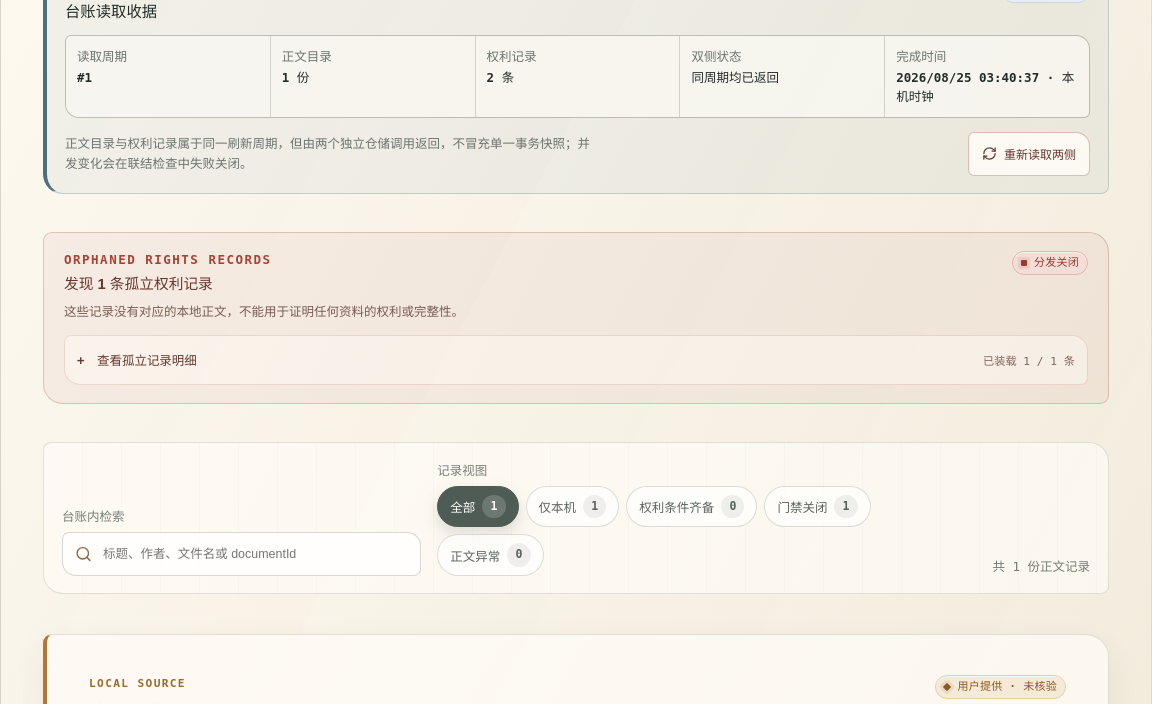
SourceRightsLedger › 默认折叠孤立记录明细，并保留异常计数与渐进装载证据
(page scrolled)
Expected: the heading "发现 1 条孤立权利记录" is shown, x1=64 y1=276 x2=213 y2=292
Step 1. Click the heading "查看孤立记录明细 已装载 1 / 1 条" → (147, 361), box x1=97 y1=354 x2=1075 y2=368
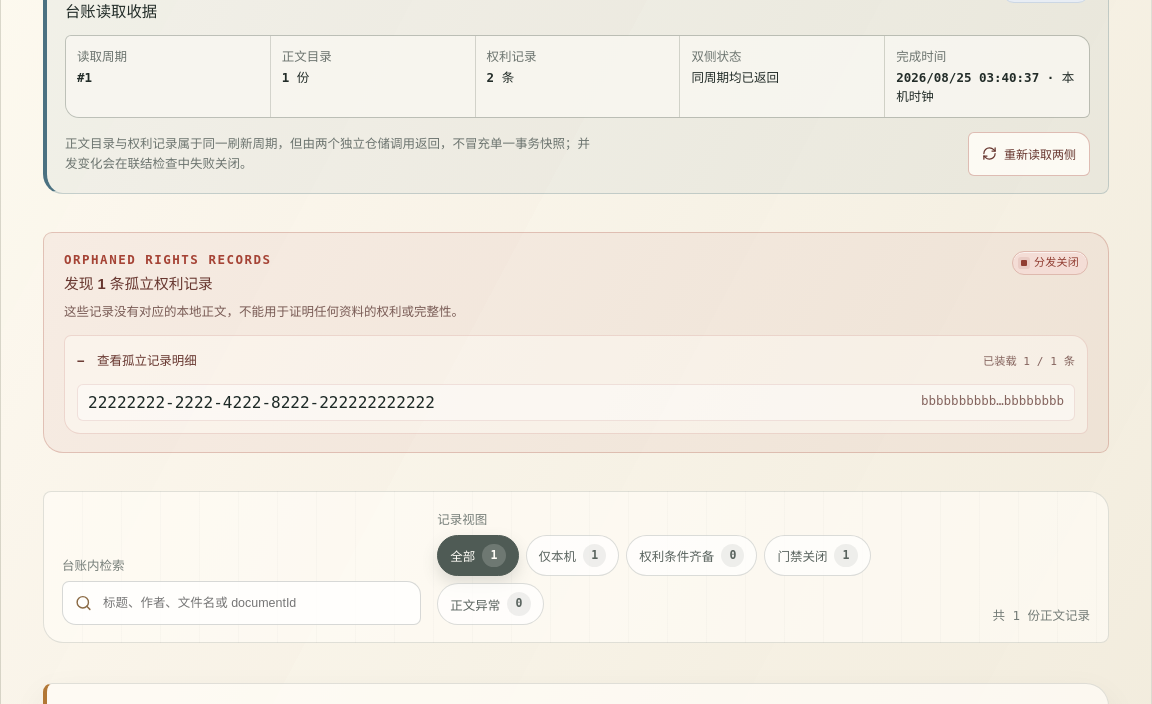
Expected: the text "22222222-2222-4222-8222-222222222222" is shown, x1=88 y1=393 x2=435 y2=412
